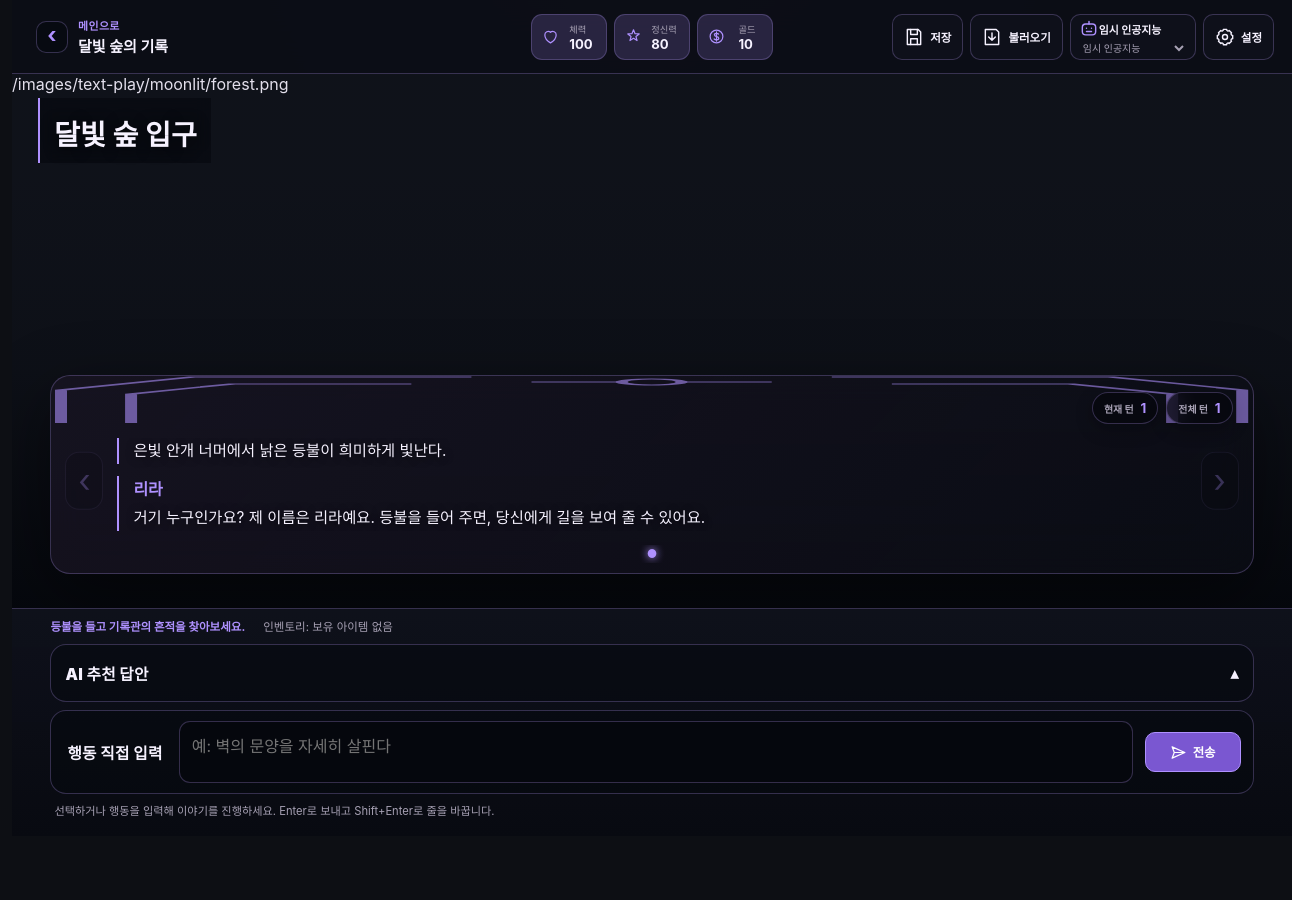
Text-Play 플레이 화면 › 현재 턴과 전체 턴을 분리하고 이전 턴의 장면으로 이동한다
Expected: the element labelled "현재 턴 1" is shown, [1092,392,1158,424]
Expected: the element labelled "전체 턴 1" is shown, [1166,392,1233,424]
What coordinates should you click on to do the following:
click the button "AI 추천 답안 ▴"
I would click on:
 (107, 674)
Its box is [63,653,1241,693].
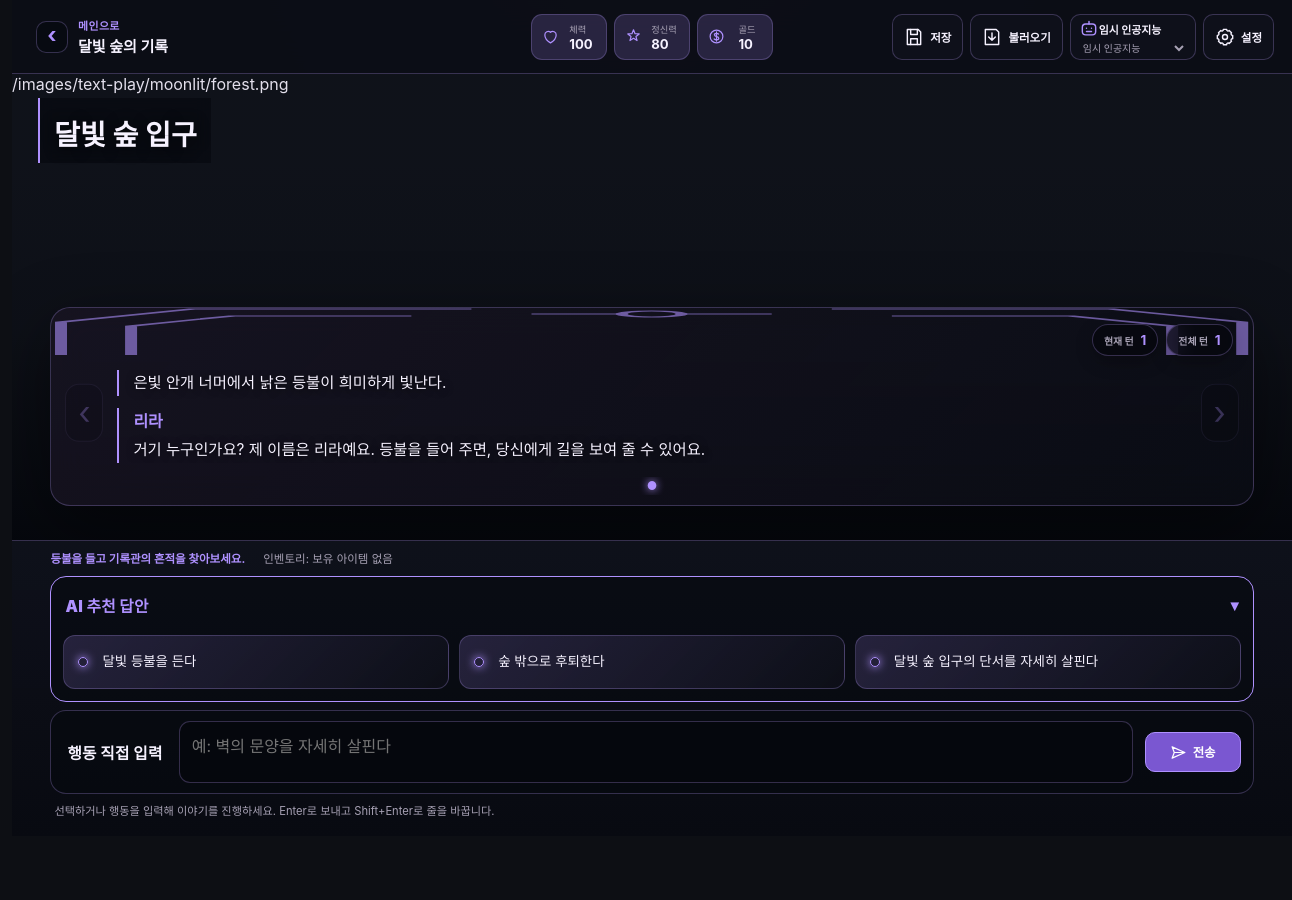
What coordinates should you click on to do the following:
click the button "달빛 등불을 든다"
I would click on:
 (149, 661)
Its box is [63,635,449,689].
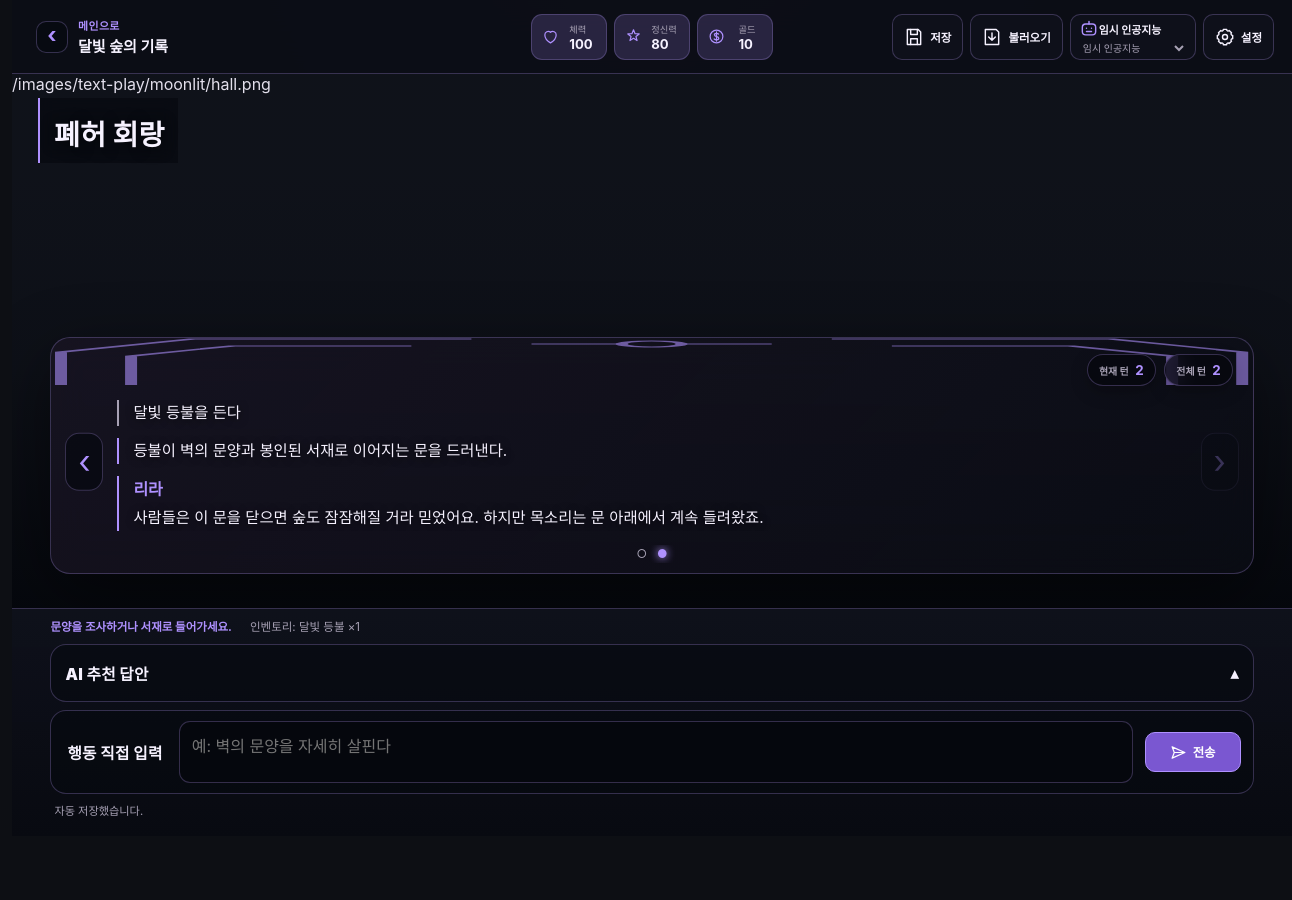
Result: the element labelled "현재 턴 2" is shown at [1087,354,1156,386]
Result: the element labelled "전체 턴 2" is shown at [1164,354,1233,386]
Result: the text with test id "scene-image" reads "/images/text-play/moonlit/hall.png" at [12,74,271,94]
What coordinates should you click on to do the following:
click the button named "이전 턴 보기"
I would click on:
 (84, 461)
Its box is [65,432,103,490].
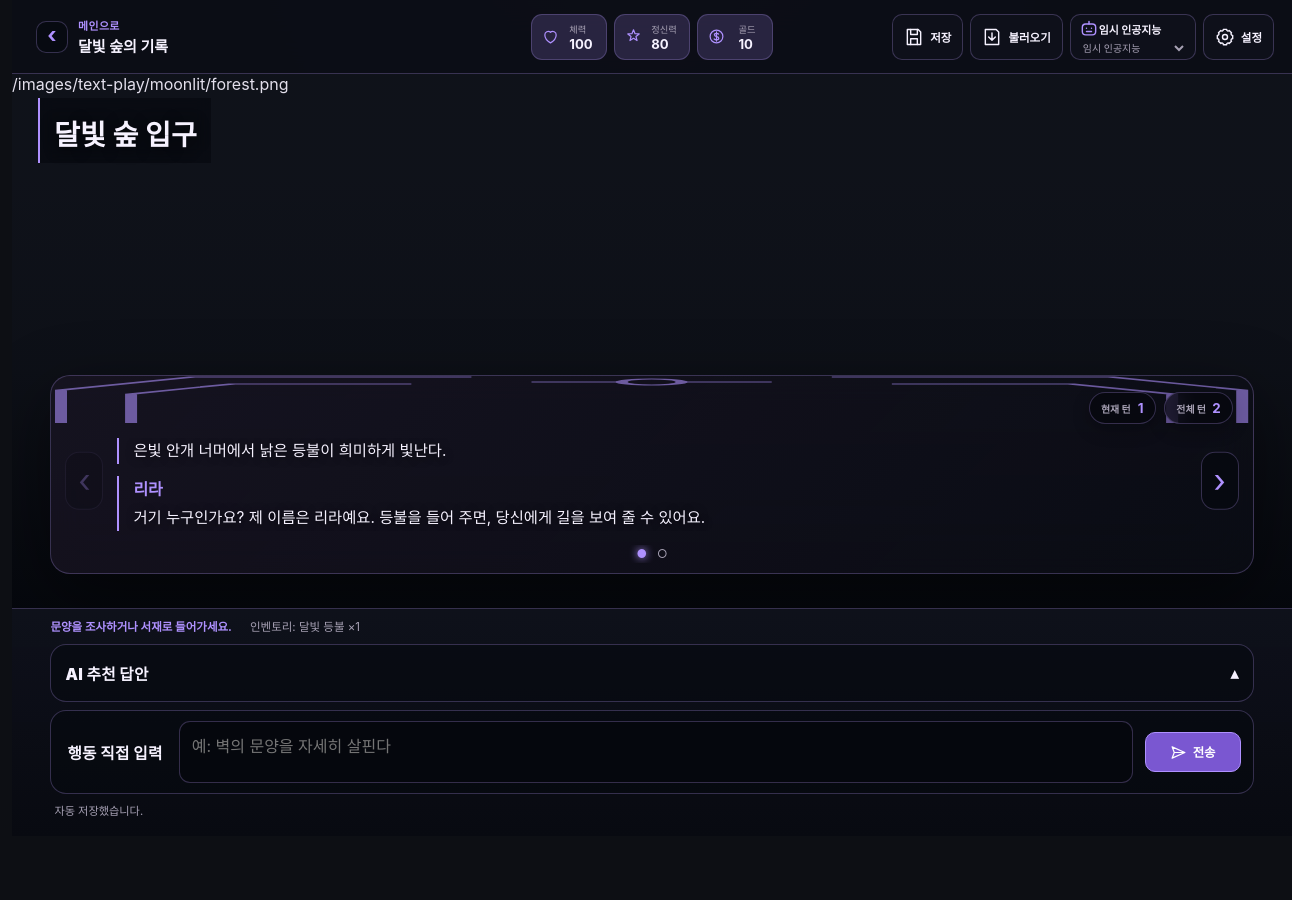
Result: the element labelled "전체 턴 2" is shown at [1164,392,1233,424]
Result: the element labelled "현재 턴 1" is shown at [1089,392,1156,424]
Result: the text with test id "scene-image" reads "/images/text-play/moonlit/forest.png" at [12,74,288,94]
What coordinates should you click on to do the following:
click the button "AI 추천 답안 ▴"
I would click on:
 (107, 674)
Its box is [63,653,1241,693].
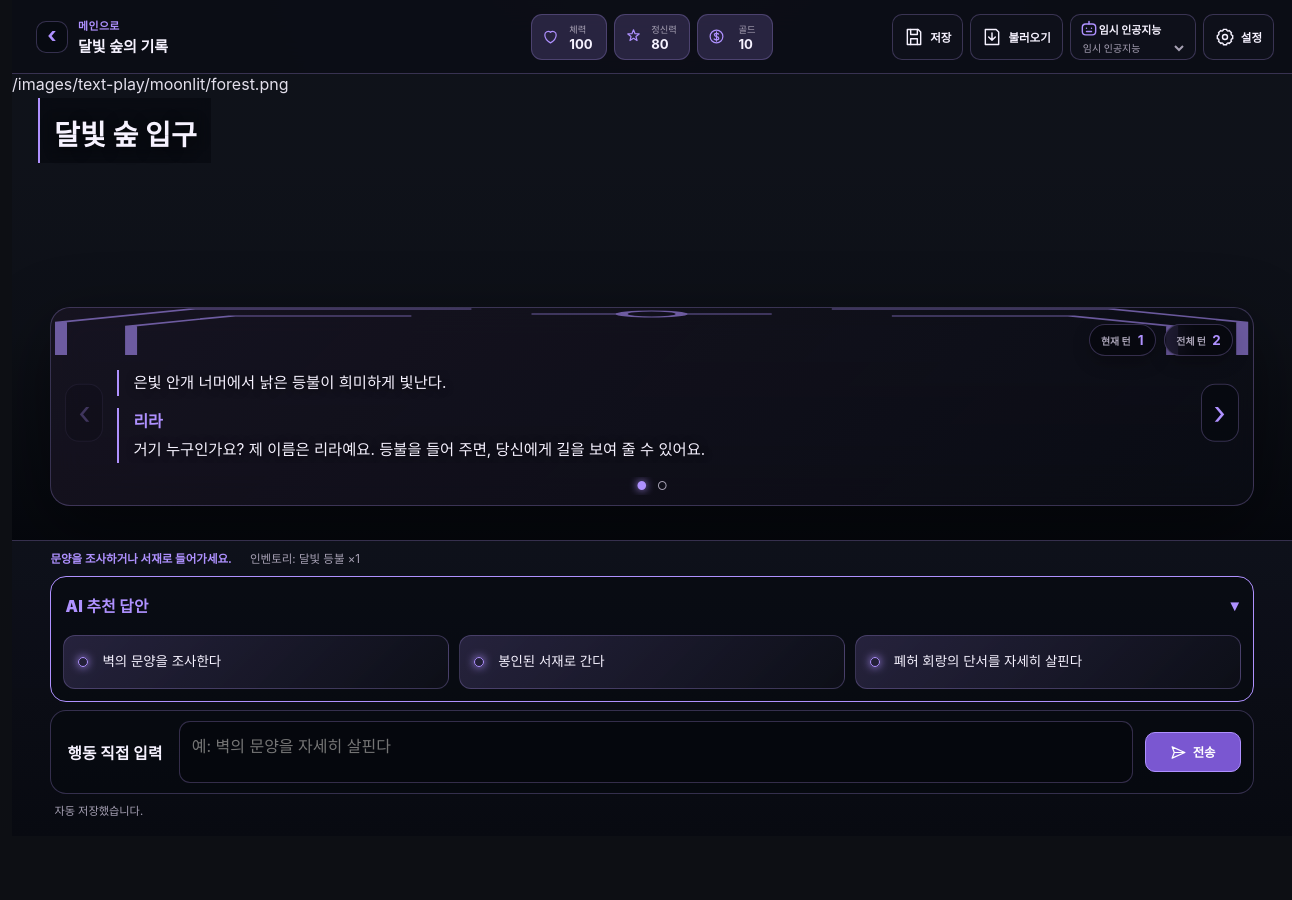
What coordinates should you click on to do the following:
click the button "봉인된 서재로 간다"
I would click on:
 (551, 661)
Its box is [459,635,845,689].
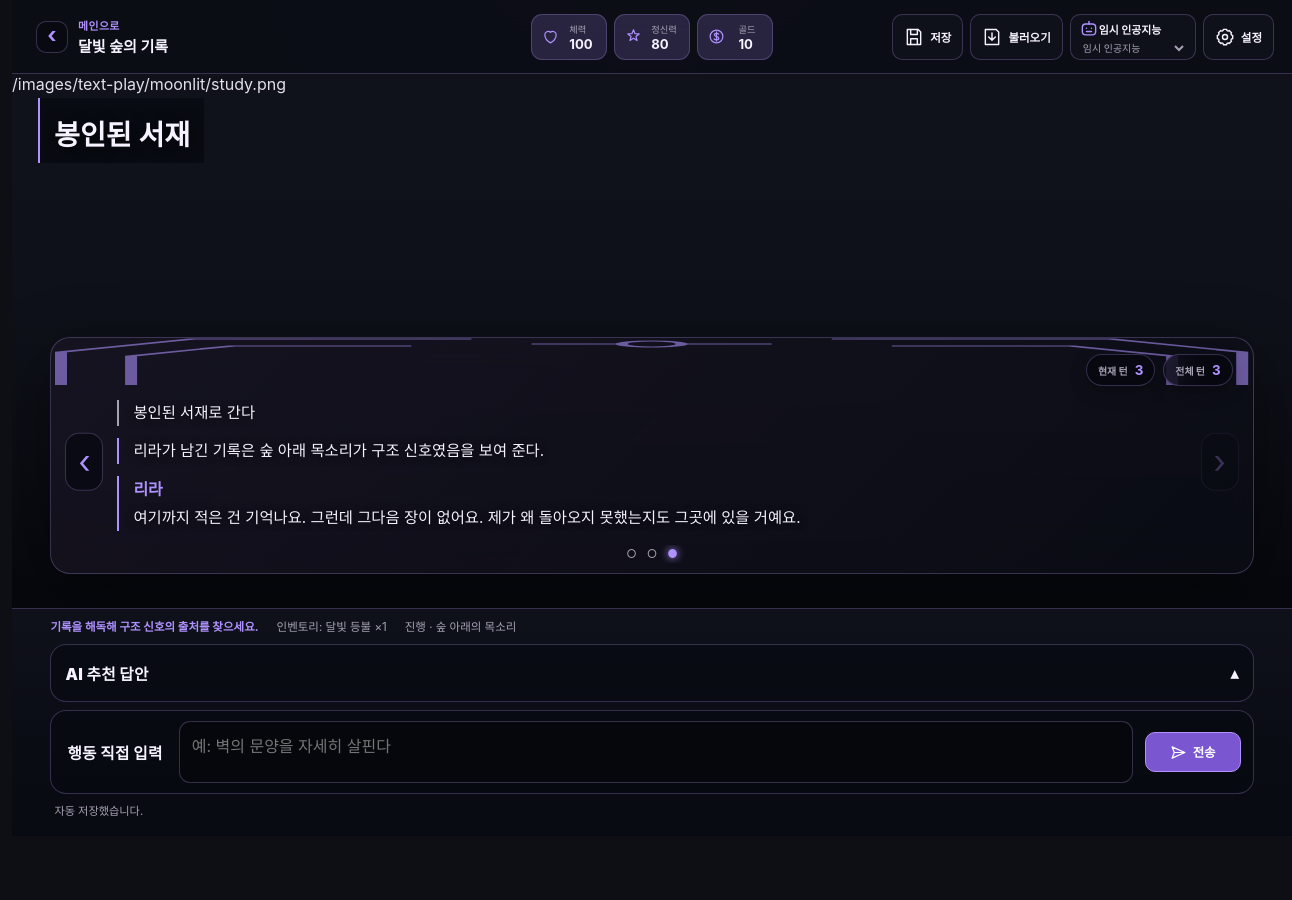
Result: the element labelled "현재 턴 3" is shown at [1086,354,1155,386]
Result: the heading "봉인된 서재" is shown at [54,112,190,153]
